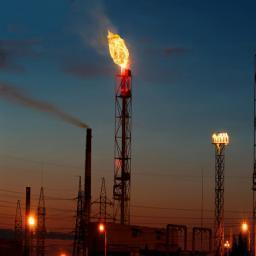fire: (108, 29, 129, 68)
smoke: (0, 83, 90, 127), (67, 0, 120, 66)
